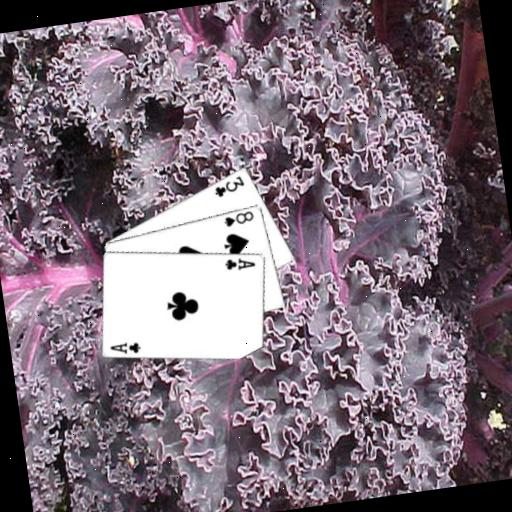3C: (210, 171, 248, 199)
8S: (220, 208, 257, 229)
AC: (107, 337, 144, 358), (222, 253, 258, 274)
